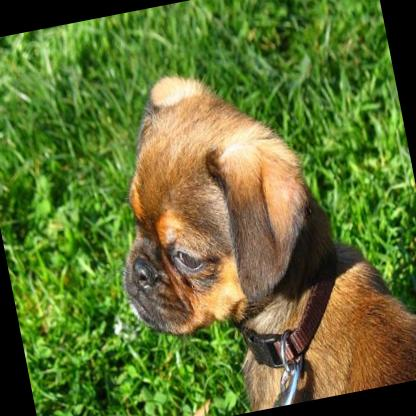Brabancon_griffon: (83, 31, 416, 416)
